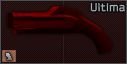MP-155 Ultima pistol grip: (0, 0, 127, 64)
